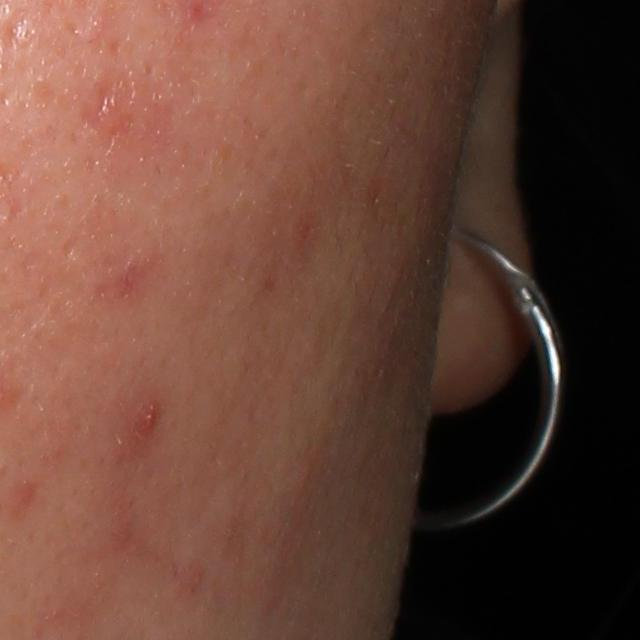atrophic_scar: (1, 4, 32, 45)
papule: (137, 397, 160, 440)
